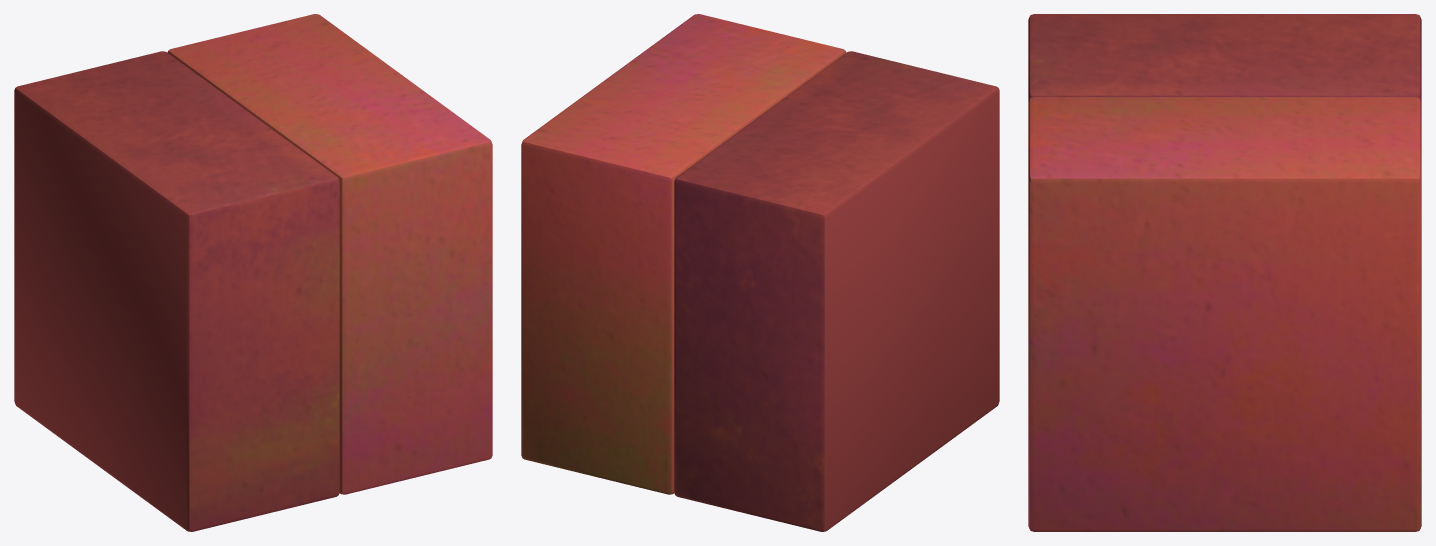
Rendered from TEMPLE_GROUND_004.obj.
3 views of the same model, side by side, from view 1: azimuth 30°, elevation 25°; view 2: azimuth 150°, elevation 25°; view 3: azimuth 270°, elevation 25° (orthographic). The views are drawn at different scales.
Parts seen in each view (by area): view 1: TEMPLE_GROUND_004; view 2: TEMPLE_GROUND_004; view 3: TEMPLE_GROUND_004.
Boxes of the visible parts, box(x1,y1,x2,y2) form: TEMPLE_GROUND_004: box(14, 14, 492, 531); TEMPLE_GROUND_004: box(521, 14, 999, 531); TEMPLE_GROUND_004: box(1028, 14, 1421, 531).
Size of the model in its own units: 1 by 1 by 1.
